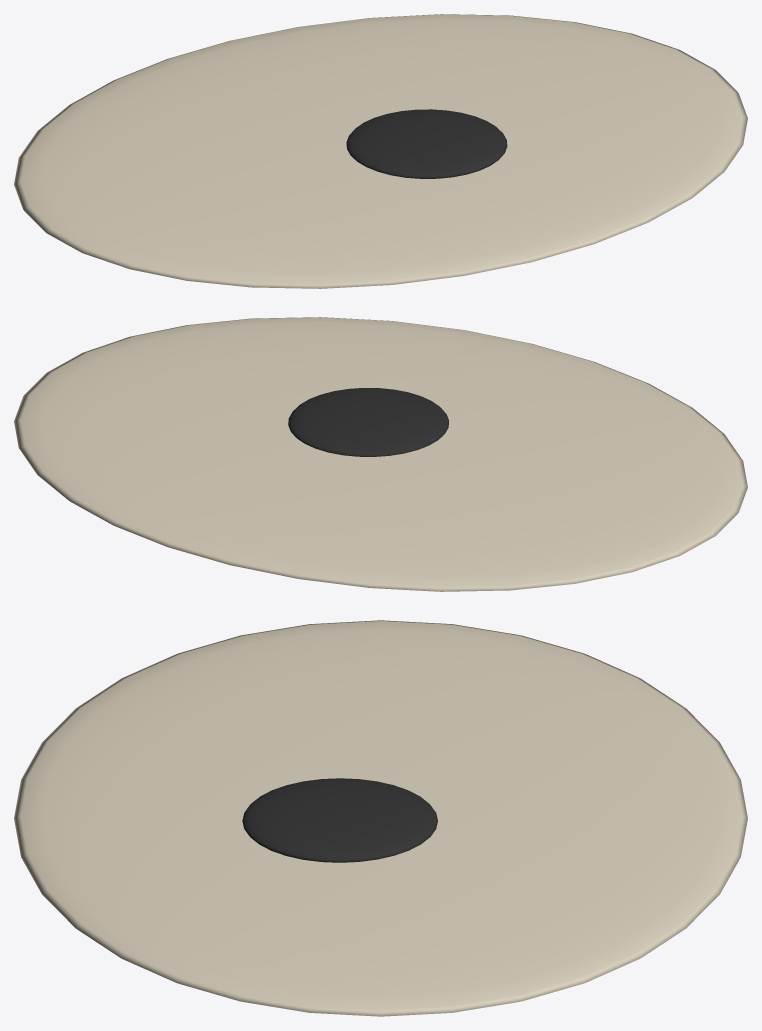
File: moth_wing.glb
The picture shows the model from 3 angles, top to bottom: view 1: azimuth 30°, elevation 25°; view 2: azimuth 150°, elevation 25°; view 3: azimuth 270°, elevation 25°; orthographic projection. The views are drawn at different scales.
Parts seen in each view (by area): view 1: wing, spot; view 2: wing, spot; view 3: wing, spot.
Boxes of the visible parts, bbox=[...] form: wing: bbox=[14, 14, 747, 288]; spot: bbox=[346, 109, 507, 178]; wing: bbox=[14, 317, 747, 591]; spot: bbox=[288, 388, 448, 456]; wing: bbox=[14, 620, 747, 1016]; spot: bbox=[242, 778, 437, 862].
Size of the model in its own units: 1.15 by 0.0544 by 0.9.
